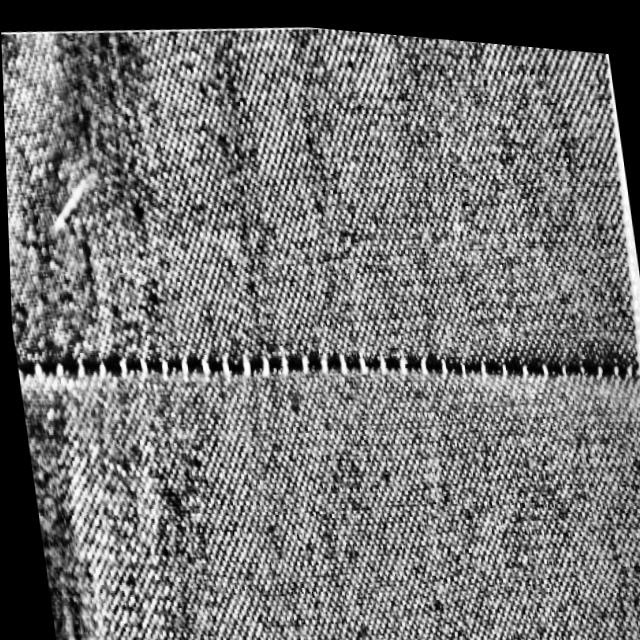seam: (13, 250, 640, 501), (20, 277, 640, 454)
